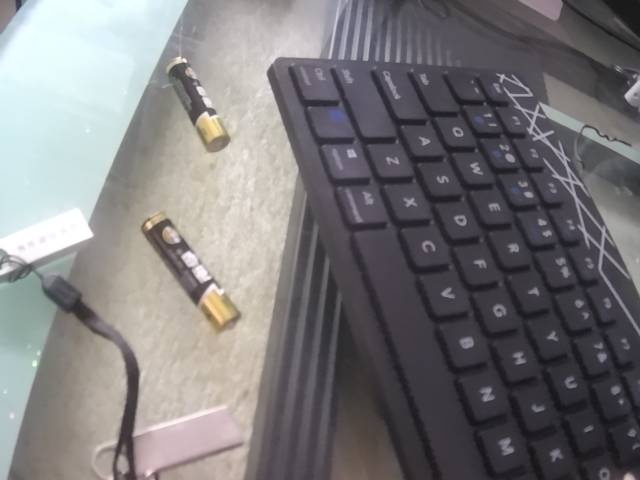U-disk: (90, 400, 246, 480), (1, 201, 99, 288)
battery: (133, 209, 247, 335), (160, 57, 236, 158)
